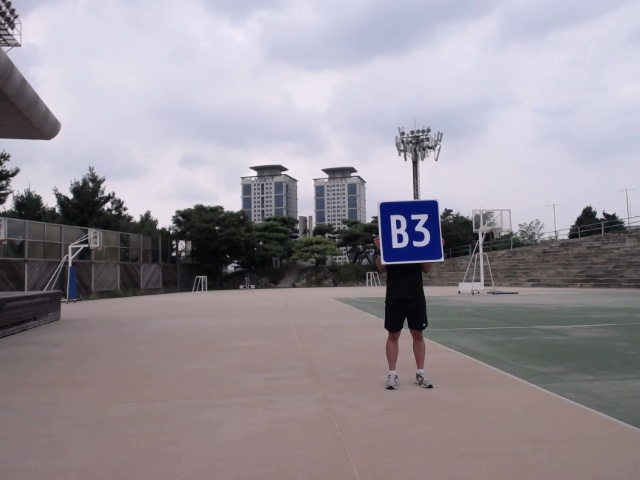delivery_b3: (378, 201, 446, 265)
